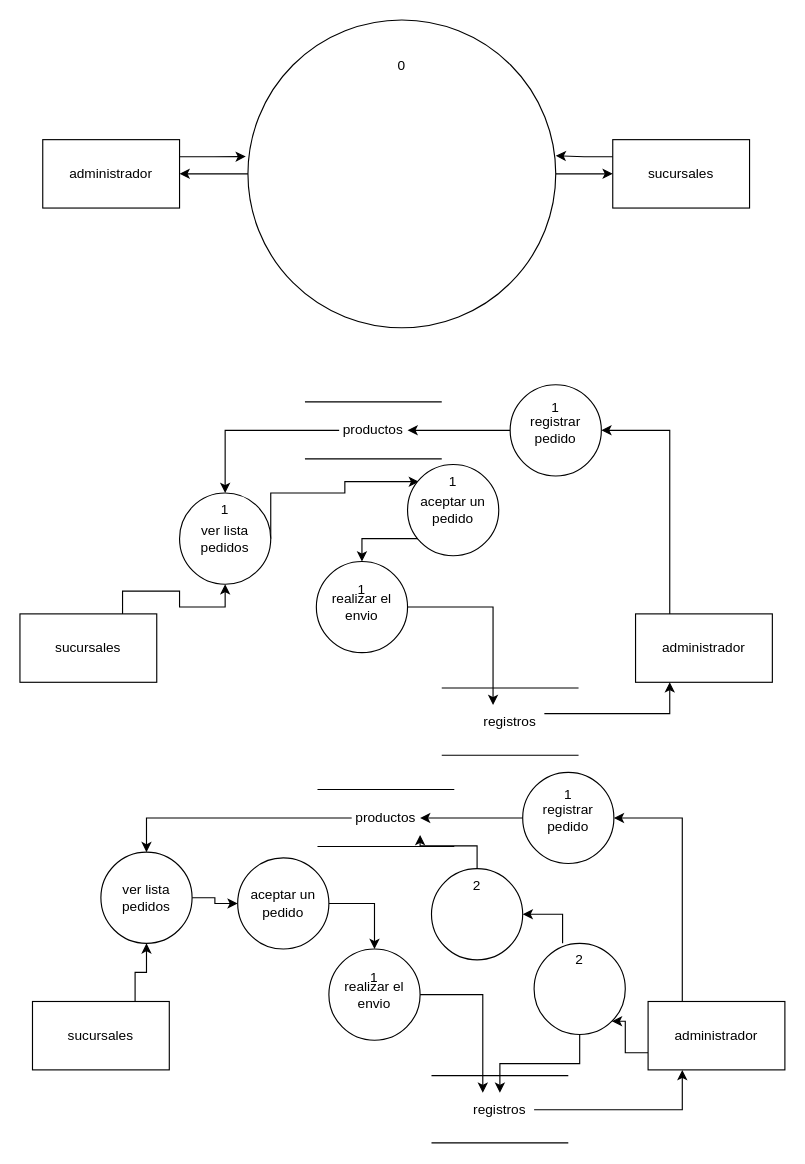
The diagram is 805 pixels wide and 1164 high, and some of its shapes have lost their labels. Here are the shapes that lost their labels. From the top down, the box of each, then its label:
(247, 19, 556, 328): Sistema de gestion de envios
(430, 868, 523, 960): actualizar stock
(533, 942, 625, 1035): informar envio realizado
